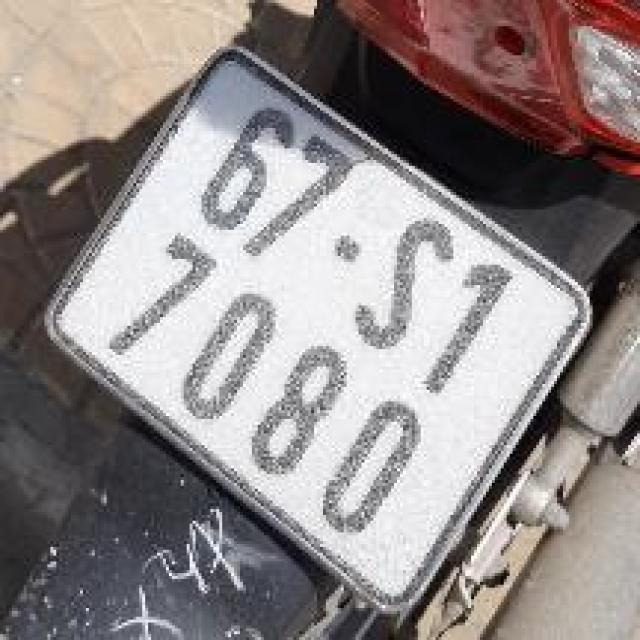0: (301, 377, 444, 555), (161, 280, 299, 439)
1: (390, 241, 542, 432)
6: (170, 89, 313, 252)
7: (222, 117, 374, 283), (88, 219, 238, 377)
8: (230, 327, 367, 500)
S: (326, 198, 475, 375)
